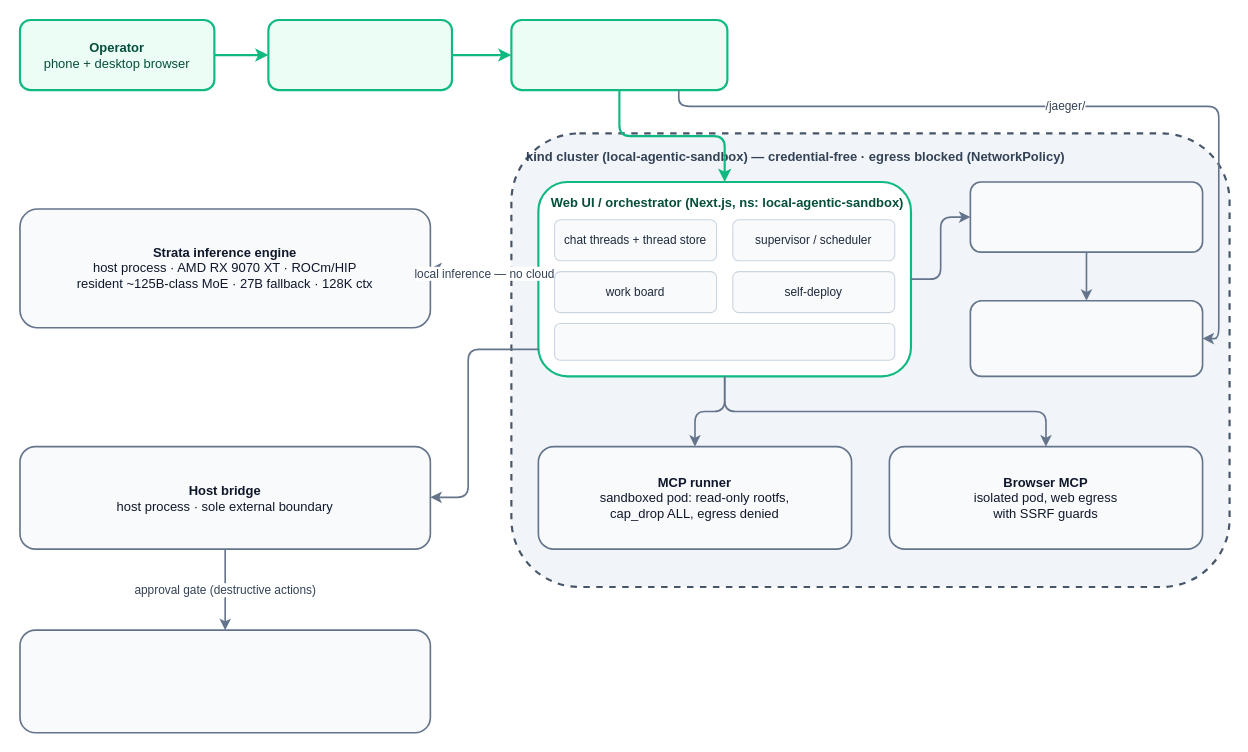
Some shapes in this 1248 by 752 pixel diagram are drawn without their labels. Each missing label, with the box of its shape:
Host OS git / GitHub · internet via host credentials in host OS keyring only: (19, 629, 431, 733)
Jaeger trace UI via /jaeger/: (969, 299, 1203, 377)
kind Gateway (nginx): (510, 18, 728, 91)
LAN / tailnet bridge: (267, 18, 453, 91)
OpenTelemetry collector: (969, 181, 1203, 253)
test gate: (554, 322, 895, 360)
